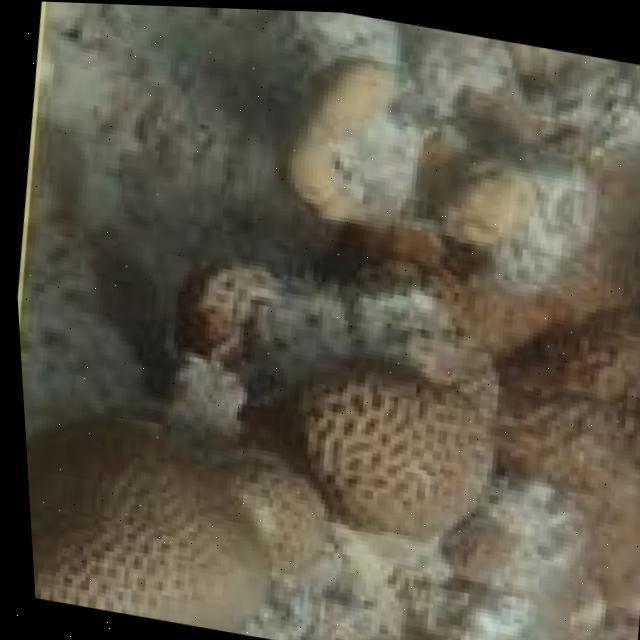Healthy Coral: (15, 326, 521, 632)
